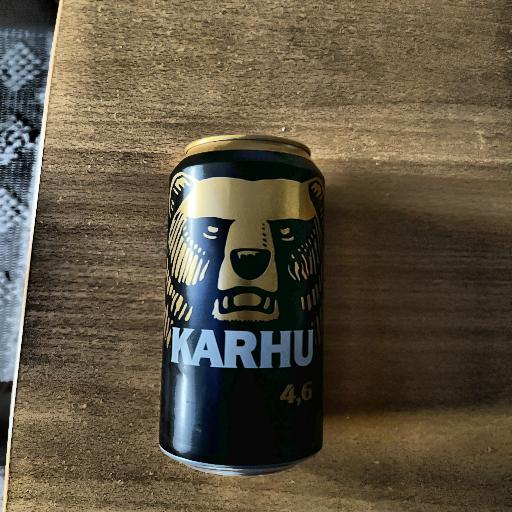karhu: (156, 106, 344, 490)
